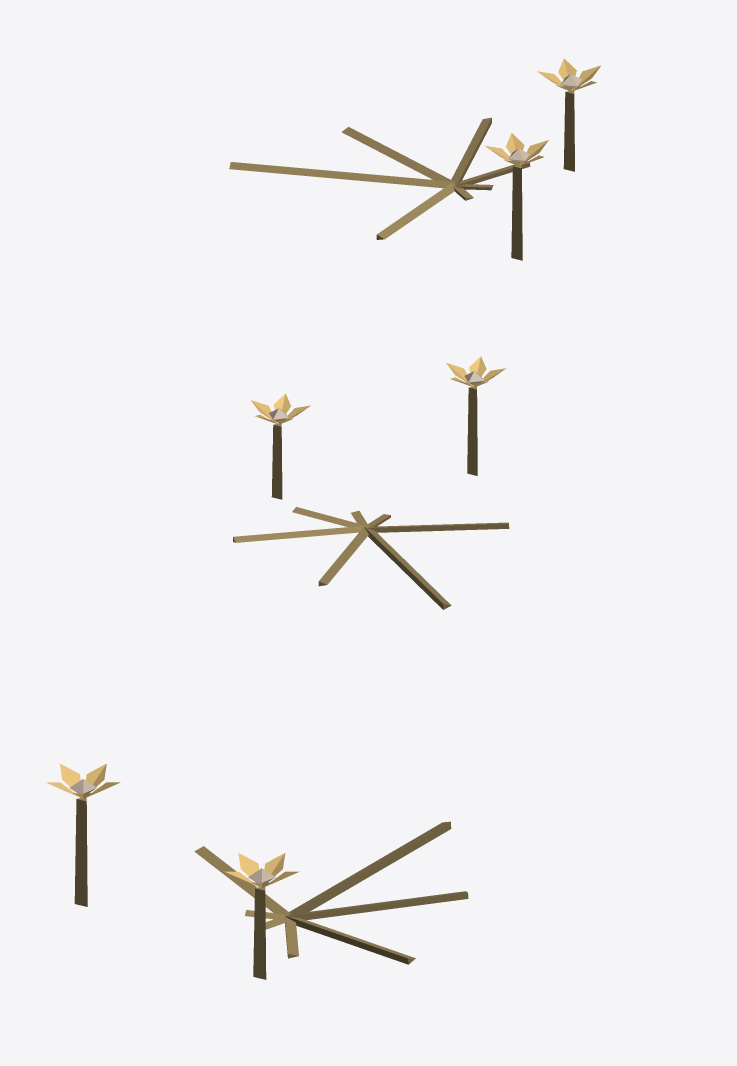
The model's file is shui.pingpeng__autumn.glb.
The picture shows the model from 3 angles, top to bottom: view 1: azimuth 30°, elevation 25°; view 2: azimuth 150°, elevation 25°; view 3: azimuth 270°, elevation 25°; orthographic projection. The views are drawn at different scales.
Visible parts, largest first — view 1: shui.pingpeng__autumn; view 2: shui.pingpeng__autumn; view 3: shui.pingpeng__autumn.
Boxes of the visible parts, box(x1,y1,x2,y2) form: shui.pingpeng__autumn: box(229, 58, 600, 260); shui.pingpeng__autumn: box(233, 356, 509, 609); shui.pingpeng__autumn: box(46, 763, 468, 979).
Bounding box in the file's own units: 1.28 × 0.2344 × 1.15.
